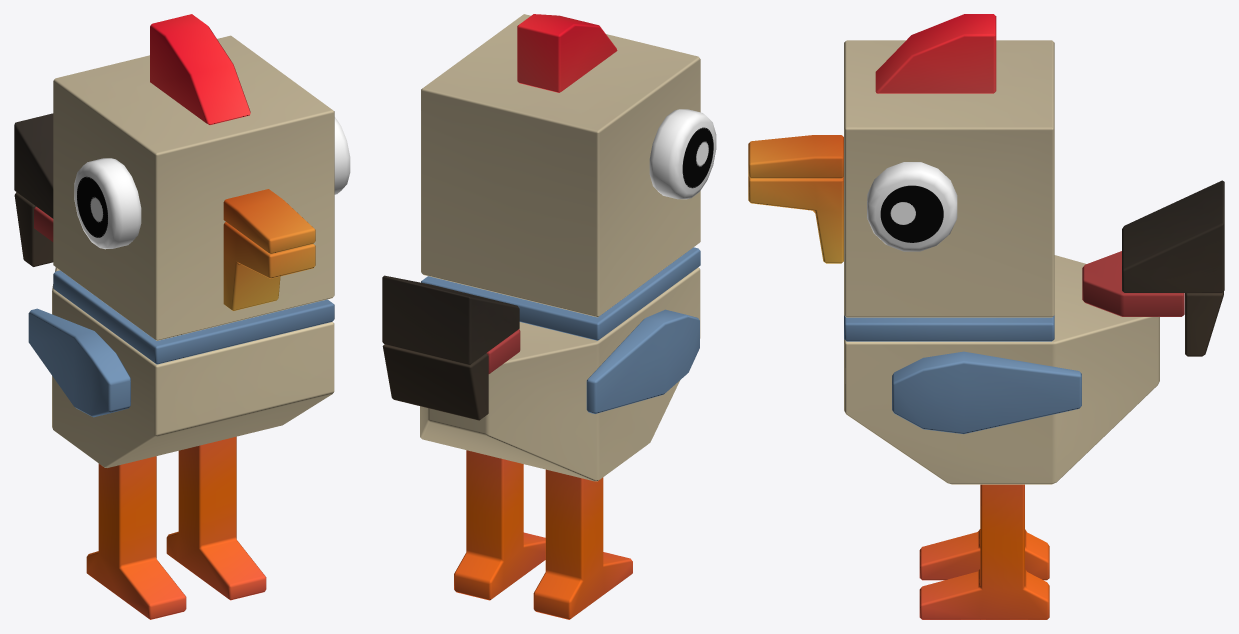
Rendered from chicken_puzzle.fbx.
The picture shows the model from 3 angles, left to right: view 1: azimuth 30°, elevation 25°; view 2: azimuth 150°, elevation 25°; view 3: azimuth 270°, elevation 25°; orthographic projection.
Parts seen in each view (by area): view 1: chickenp_6, chickenp_1, chickenp_2, chickenp_8, chickenp_7, chickenp_5, chickenp_4, chickenp_9, chickenp_3; view 2: chickenp_6, chickenp_1, chickenp_2, chickenp_3, chickenp_5, chickenp_7, chickenp_4, chickenp_9; view 3: chickenp_6, chickenp_1, chickenp_3, chickenp_2, chickenp_5, chickenp_8, chickenp_7, chickenp_9, chickenp_4.
Boxes of the visible parts, box(x1,y1,x2,y2) form: chickenp_6: box(53, 35, 334, 340); chickenp_1: box(52, 267, 334, 467); chickenp_2: box(86, 436, 266, 619); chickenp_8: box(223, 189, 315, 310); chickenp_7: box(150, 14, 250, 124); chickenp_5: box(28, 308, 130, 417); chickenp_4: box(53, 270, 334, 364); chickenp_9: box(74, 117, 350, 249); chickenp_3: box(14, 113, 53, 266); chickenp_6: box(421, 14, 700, 317); chickenp_1: box(420, 267, 700, 481); chickenp_2: box(454, 450, 632, 619); chickenp_3: box(382, 275, 520, 420); chickenp_5: box(586, 309, 699, 413); chickenp_7: box(517, 14, 617, 92); chickenp_4: box(421, 247, 700, 340); chickenp_9: box(649, 109, 716, 199); chickenp_6: box(844, 40, 1054, 317); chickenp_1: box(844, 255, 1159, 484); chickenp_3: box(1082, 180, 1224, 356); chickenp_2: box(919, 484, 1049, 619); chickenp_5: box(892, 351, 1081, 434); chickenp_8: box(748, 135, 843, 263); chickenp_7: box(875, 14, 996, 93); chickenp_9: box(867, 162, 957, 251); chickenp_4: box(844, 315, 1054, 341).
Bounding box in the file's own units: 1.06 × 2.38 × 1.81.
